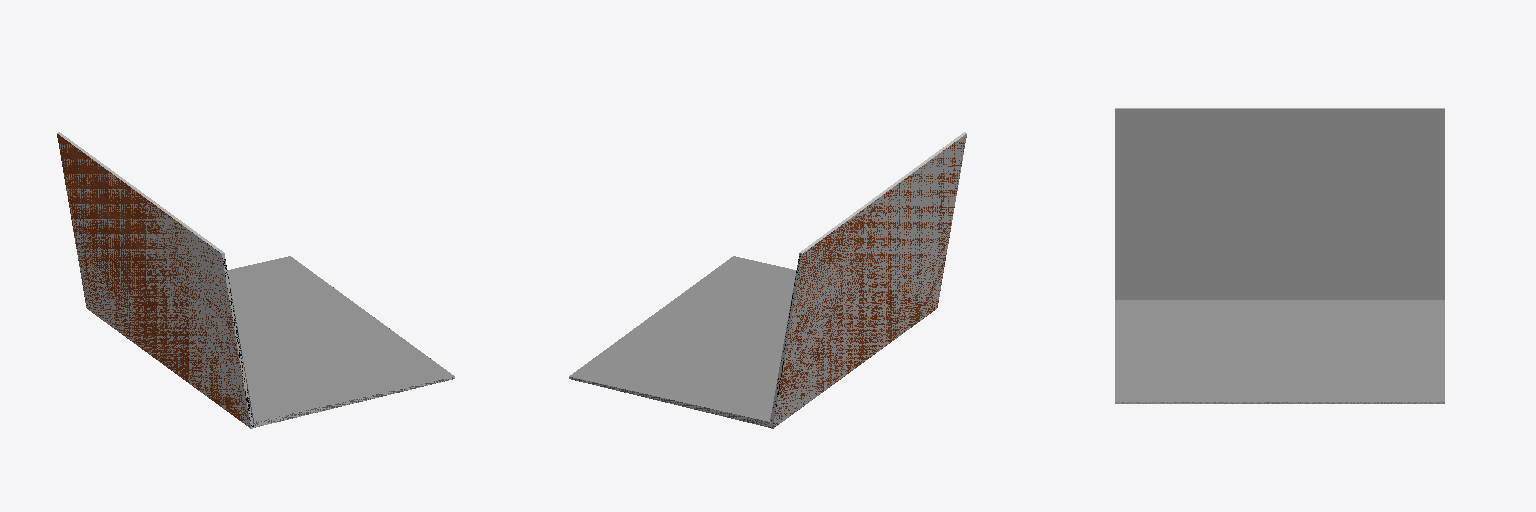
3 views of the same model, side by side, from view 1: azimuth 30°, elevation 25°; view 2: azimuth 150°, elevation 25°; view 3: azimuth 270°, elevation 25° (orthographic).
Parts seen in each view (by area): view 1: mesh1_mesh1-geometry; view 2: mesh1_mesh1-geometry; view 3: mesh1_mesh1-geometry, mesh2_mesh2-geometry.
Boxes of the visible parts, box(x1,y1,x2,y2) form: mesh1_mesh1-geometry: box(57, 132, 454, 428); mesh1_mesh1-geometry: box(569, 132, 966, 428); mesh1_mesh1-geometry: box(1115, 108, 1444, 403); mesh2_mesh2-geometry: box(1137, 128, 1418, 274).
Bounding box in the file's own units: 0.5724 × 0.4287 × 0.699.
8 materials, 1 textured.